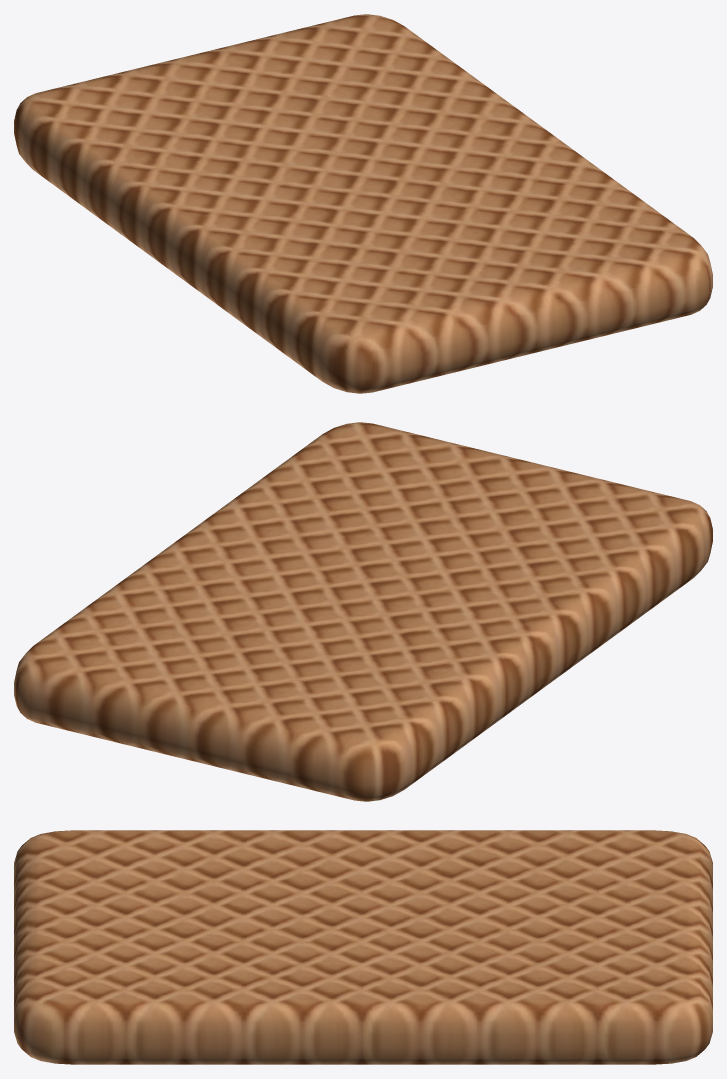
The model's file is candy_waf_7.fbx.
3 views of the same model, one above another, from view 1: azimuth 30°, elevation 25°; view 2: azimuth 150°, elevation 25°; view 3: azimuth 270°, elevation 25° (orthographic).
Parts seen in each view (by area): view 1: c_w_7; view 2: c_w_7; view 3: c_w_7.
Boxes of the visible parts, box(x1,y1,x2,y2) form: c_w_7: box(14, 14, 712, 393); c_w_7: box(14, 422, 712, 801); c_w_7: box(14, 830, 712, 1064).
Size of the model in its own units: 113 by 16.67 by 178.
